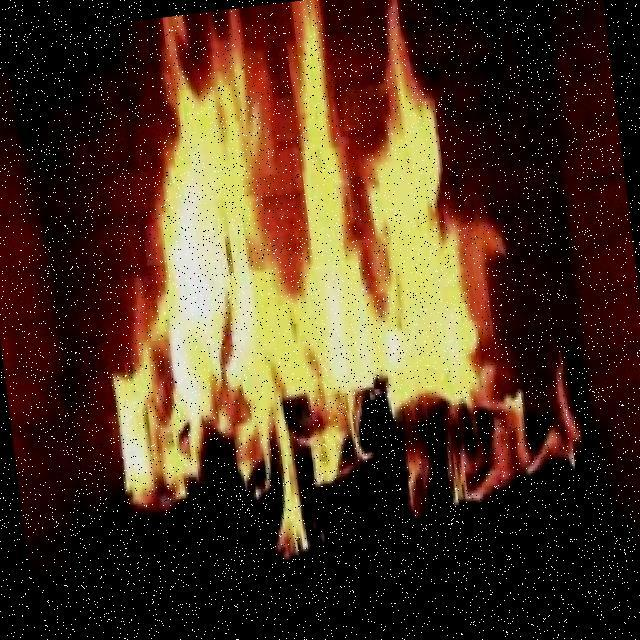Fire: (105, 45, 508, 504)
